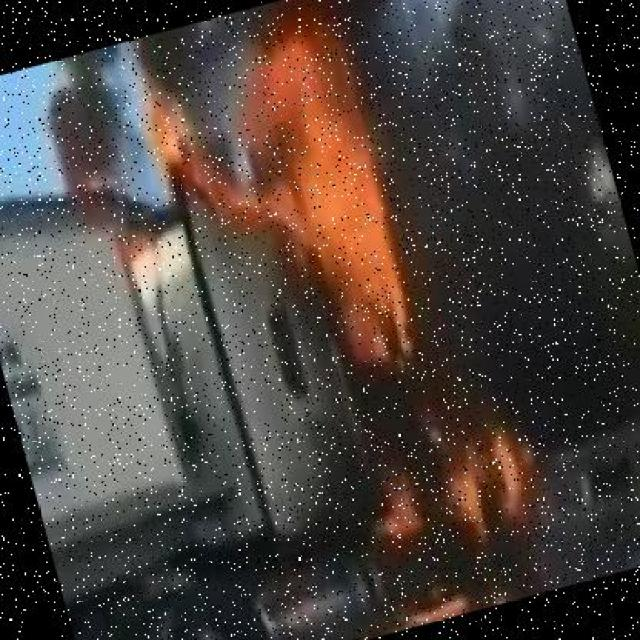fire: (142, 26, 432, 412), (350, 383, 556, 575)
